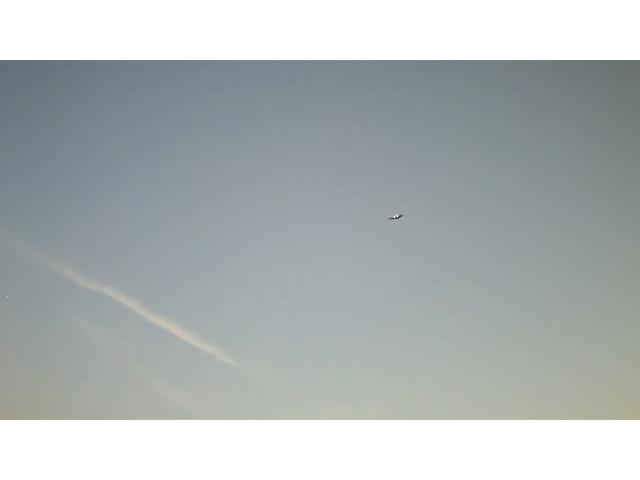Anti-Drone: (388, 214, 404, 220)
